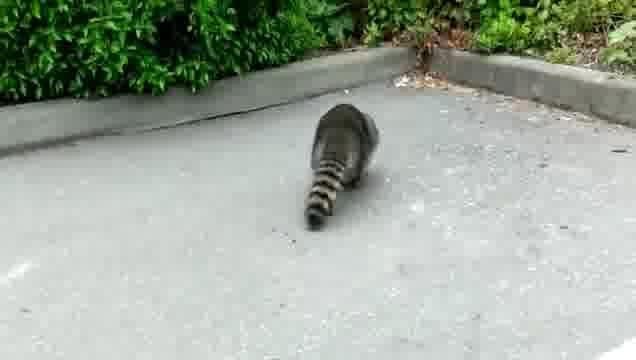raccoon: (307, 103, 379, 232)
